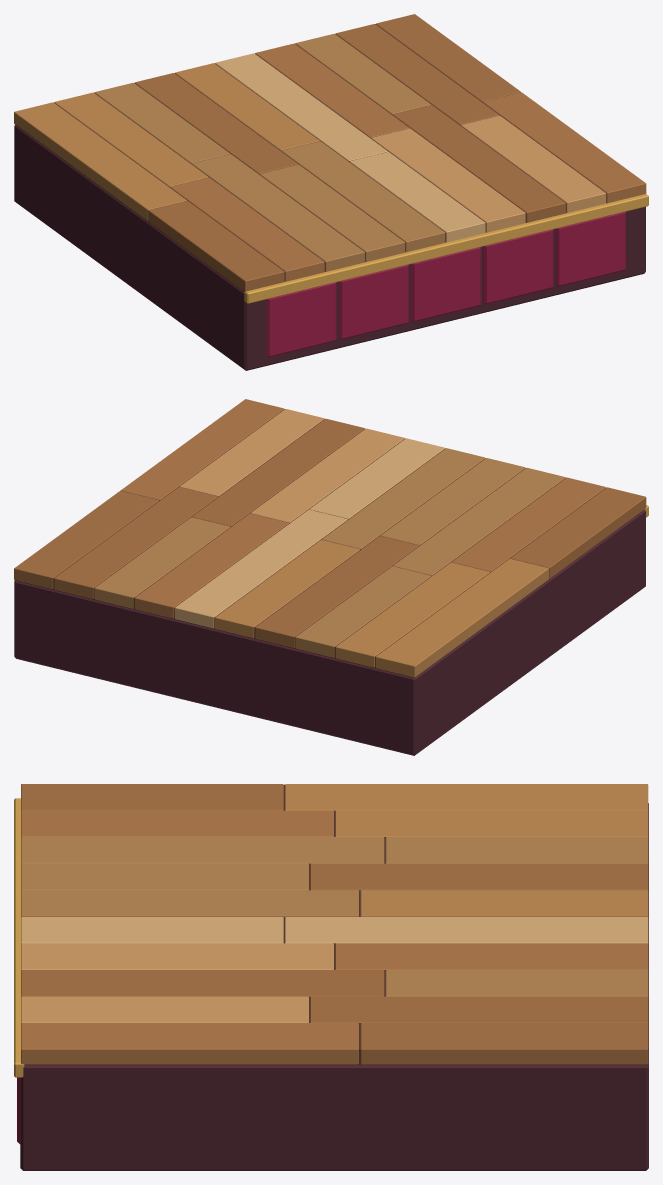
File: stage_deck.glb
3 renders of one model, top to bottom at view 1: azimuth 30°, elevation 25°; view 2: azimuth 150°, elevation 25°; view 3: azimuth 270°, elevation 25°, orthographic. The views are drawn at different scales.
Parts seen in each view (by area): view 1: Estrado, Tábua de pista.021, Tábua de pista.024, Tábua de pista.034, Debrum frontal, Tábua de pista.028, Tábua de pista.038, Tábua de pista.031, Tábua de pista.020, Tábua de pista.022, Tábua de pista.032, Tábua de pista.037 (+16 smaller); view 2: Estrado, Tábua de pista.021, Tábua de pista.031, Tábua de pista.027, Tábua de pista.037, Tábua de pista.034, Tábua de pista.024, Tábua de pista.033, Tábua de pista.023, Tábua de pista.038, Tábua de pista.028, Tábua de pista.020 (+10 smaller); view 3: Estrado, Tábua de pista.038, Tábua de pista.039, Tábua de pista.031, Tábua de pista.021, Tábua de pista.024, Tábua de pista.034, Tábua de pista.027, Tábua de pista.037, Tábua de pista.028, Tábua de pista.023, Tábua de pista.033 (+11 smaller).
Part boxes in pixels (x1,y1,x2,y2): Estrado: (14, 124, 645, 370); Tábua de pista.021: (14, 102, 186, 220); Tábua de pista.024: (192, 154, 364, 271); Tábua de pista.034: (393, 105, 565, 222); Debrum frontal: (244, 194, 648, 303); Tábua de pista.028: (282, 141, 445, 252); Tábua de pista.038: (483, 92, 646, 203); Tábua de pista.031: (215, 53, 387, 160); Tábua de pista.020: (148, 201, 284, 291); Tábua de pista.022: (170, 177, 324, 281); Tábua de pista.032: (371, 128, 525, 232); Tábua de pista.037: (335, 24, 499, 124); Estrado: (14, 510, 645, 755); Tábua de pista.021: (375, 558, 548, 677); Tábua de pista.031: (174, 509, 347, 628); Tábua de pista.027: (255, 536, 418, 647); Tábua de pista.037: (54, 487, 217, 598); Tábua de pista.034: (192, 418, 364, 526); Tábua de pista.024: (393, 467, 565, 575); Tábua de pista.033: (134, 513, 288, 618); Tábua de pista.023: (335, 562, 489, 667); Tábua de pista.038: (121, 399, 284, 499); Tábua de pista.028: (322, 448, 485, 548); Tábua de pista.020: (510, 487, 646, 578); Estrado: (20, 803, 648, 1170); Tábua de pista.038: (21, 1023, 358, 1064); Tábua de pista.039: (360, 1023, 648, 1064); Tábua de pista.031: (285, 917, 648, 943); Tábua de pista.021: (285, 784, 648, 810); Tábua de pista.024: (21, 837, 384, 863); Tábua de pista.034: (21, 970, 384, 996); Tábua de pista.027: (310, 863, 648, 890); Tábua de pista.037: (310, 996, 648, 1023); Tábua de pista.028: (21, 890, 358, 916); Tábua de pista.023: (335, 810, 648, 837); Tábua de pista.033: (335, 943, 648, 970).
Size of the model in its own units: 2.5 by 0.54 by 2.52.
